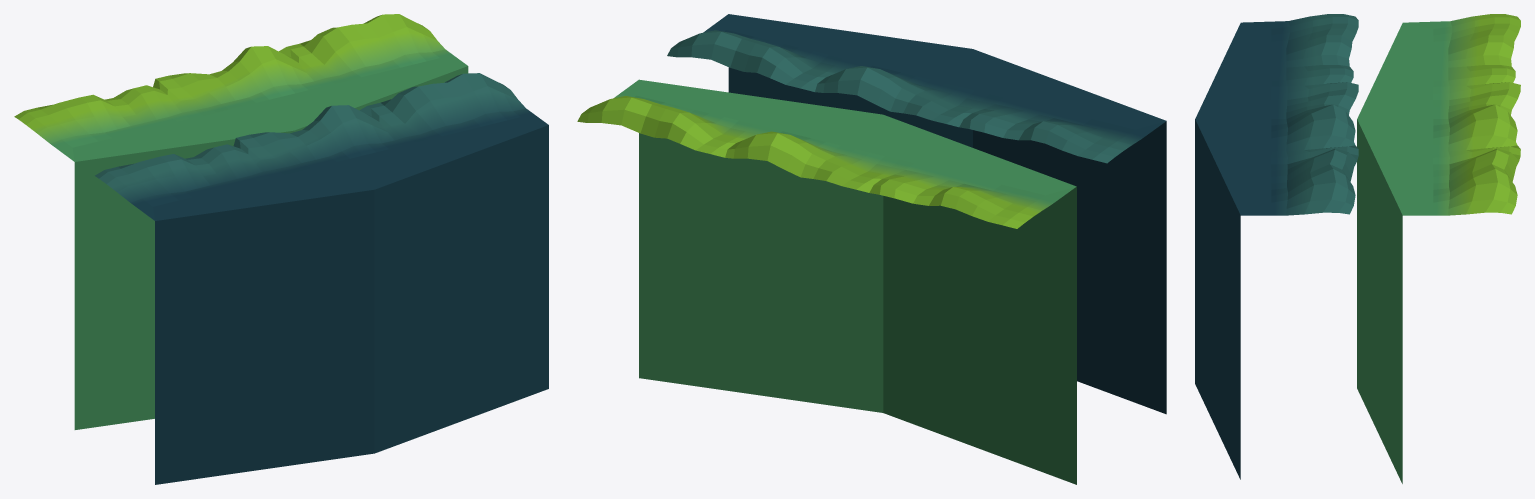
Rendered from terrains.fbx.
The picture shows the model from 3 angles, left to right: view 1: azimuth 30°, elevation 25°; view 2: azimuth 150°, elevation 25°; view 3: azimuth 270°, elevation 25°; orthographic projection. The views are drawn at different scales.
Parts seen in each view (by area): view 1: Terrain_02, Terrain_01; view 2: Terrain_01, Terrain_02; view 3: Terrain_01, Terrain_02.
Boxes of the visible parts, left/top/right/bottom form: Terrain_02: left=95, top=73, right=548, bottom=484; Terrain_01: left=14, top=14, right=468, bottom=429; Terrain_01: left=577, top=79, right=1076, bottom=484; Terrain_02: left=667, top=14, right=1166, bottom=414; Terrain_01: left=1357, top=14, right=1520, bottom=483; Terrain_02: left=1195, top=14, right=1358, bottom=479.
Size of the model in its own units: 4893 by 3440 by 3421.
